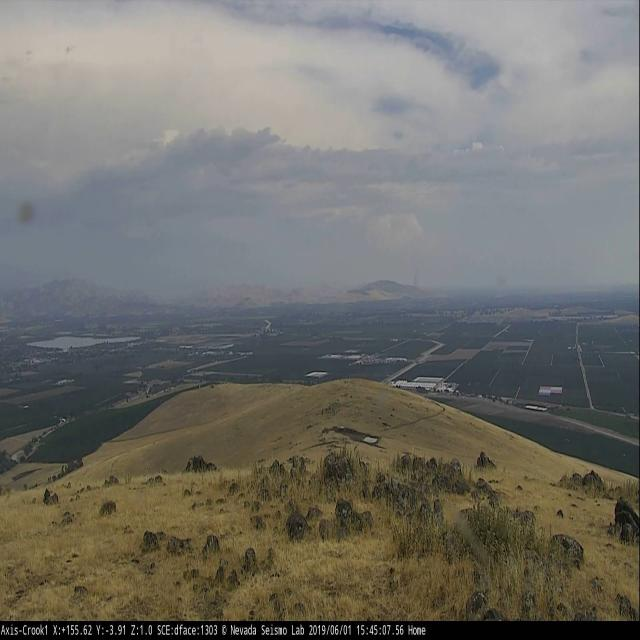smoke: (412, 270, 418, 286)
